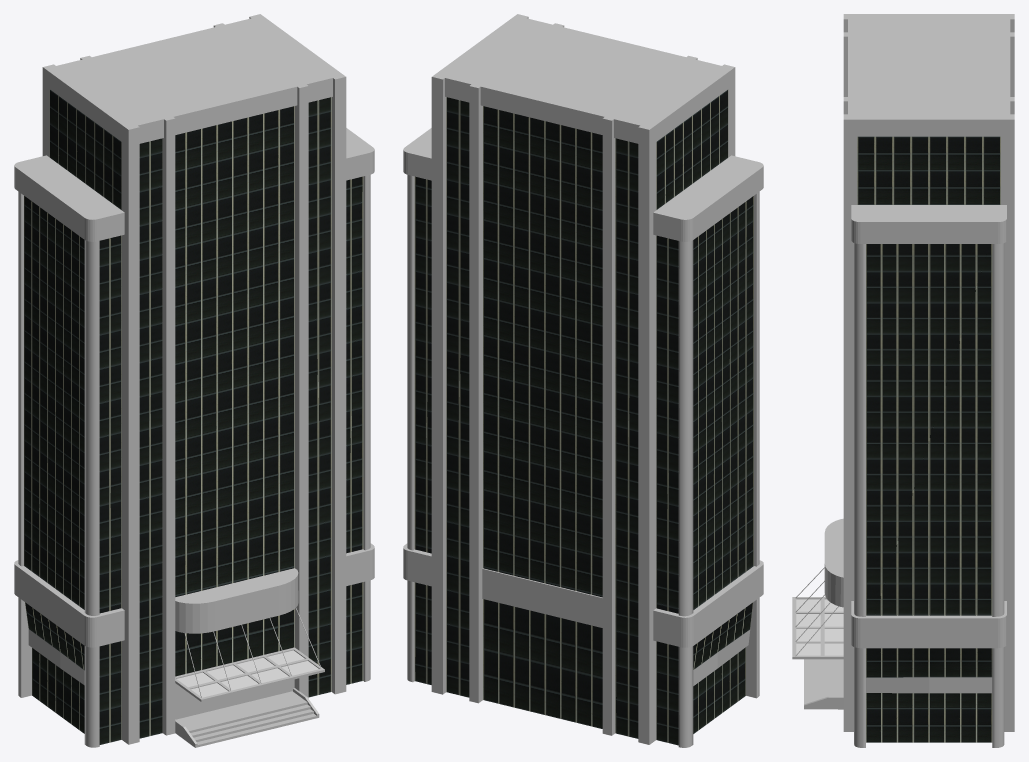
3 views of the same model, side by side, from view 1: azimuth 30°, elevation 25°; view 2: azimuth 150°, elevation 25°; view 3: azimuth 270°, elevation 25° (orthographic).
Parts seen in each view (by area): view 1: EC-002; view 2: EC-002; view 3: EC-002.
Part boxes in pixels (x1,y1,x2,y2): EC-002: [14, 14, 374, 747]; EC-002: [403, 14, 763, 747]; EC-002: [792, 14, 1014, 747].
Size of what is drawn, in the model's own units: 26.57 by 54 by 17.76.
